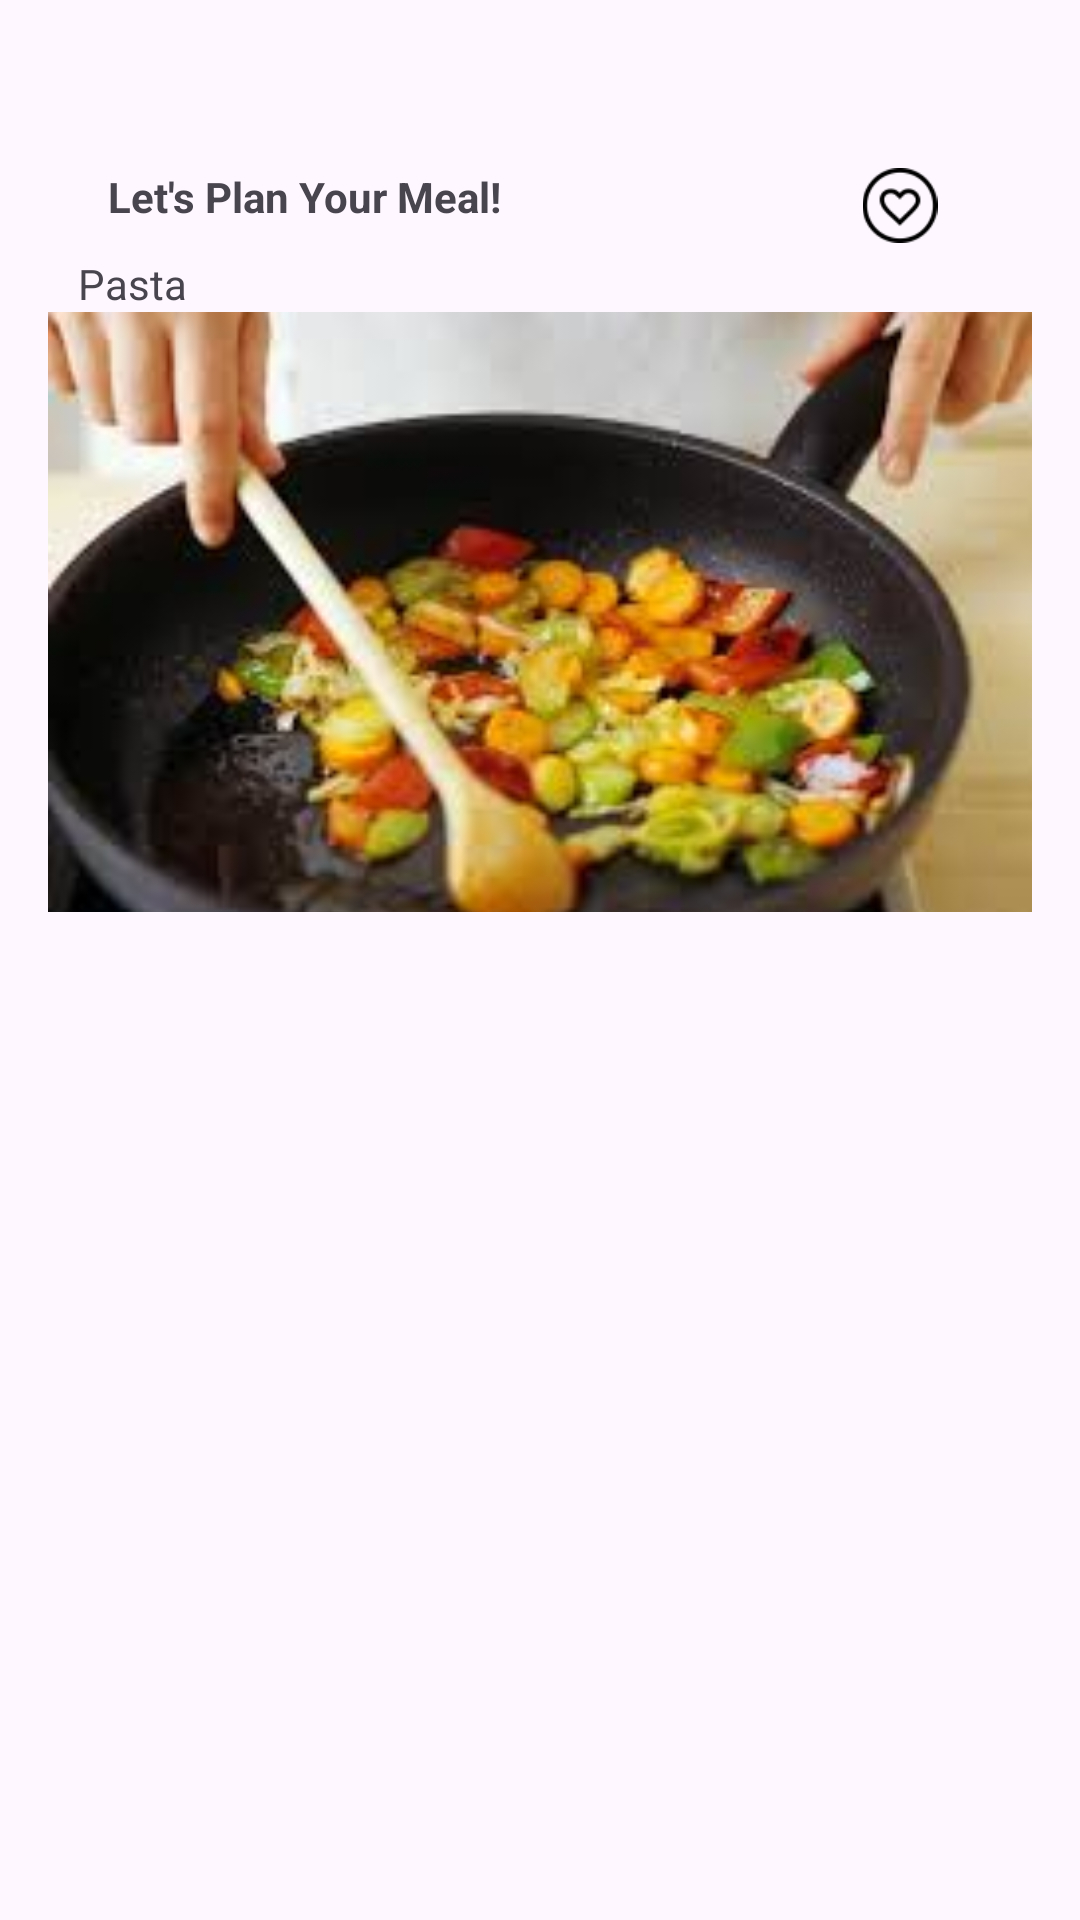

Locate icon controls on the screen. Image size 1080 x 1920, boxes as (x1, y1, x2, y2).
like heart: (863, 168, 938, 243)
